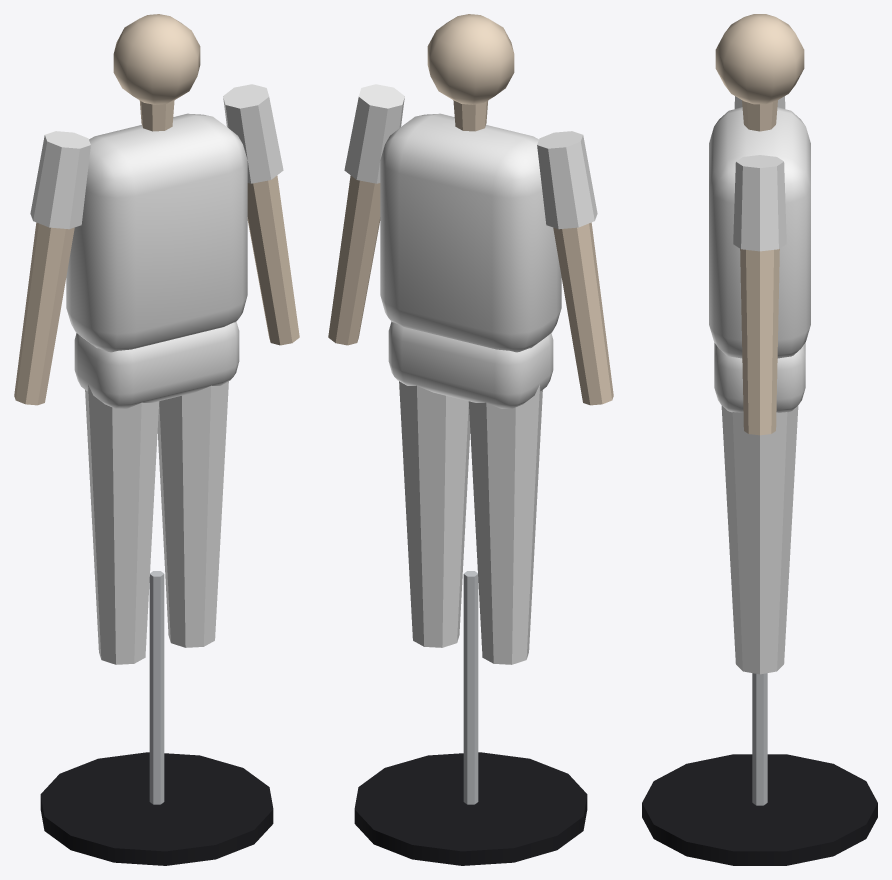
File: mannequin.glb
3 renders of one model, left to right at view 1: azimuth 30°, elevation 25°; view 2: azimuth 150°, elevation 25°; view 3: azimuth 270°, elevation 25°, orthographic.
Visible parts, largest first — view 1: sleeve, hip, base, arm, pole; view 2: sleeve, hip, base, arm, pole; view 3: base, sleeve, hip, arm, pole.
Part boxes in pixels (left/top/right/bottom): sleeve: left=30, top=84, right=283, bottom=352; hip: left=74, top=321, right=239, bottom=664; base: left=40, top=752, right=273, bottom=865; arm: left=14, top=14, right=299, bottom=405; pole: left=149, top=571, right=164, bottom=804; sleeve: left=344, top=84, right=597, bottom=352; hip: left=388, top=321, right=553, bottom=664; base: left=354, top=752, right=587, bottom=865; arm: left=328, top=14, right=613, bottom=405; pole: left=463, top=571, right=478, bottom=804; base: left=642, top=754, right=877, bottom=865; sleeve: left=709, top=96, right=810, bottom=358; hip: left=714, top=342, right=805, bottom=674; arm: left=715, top=14, right=804, bottom=435; pole: left=752, top=673, right=767, bottom=805.
Bounding box in the file's own units: 0.6089 × 1.65 × 0.44.
